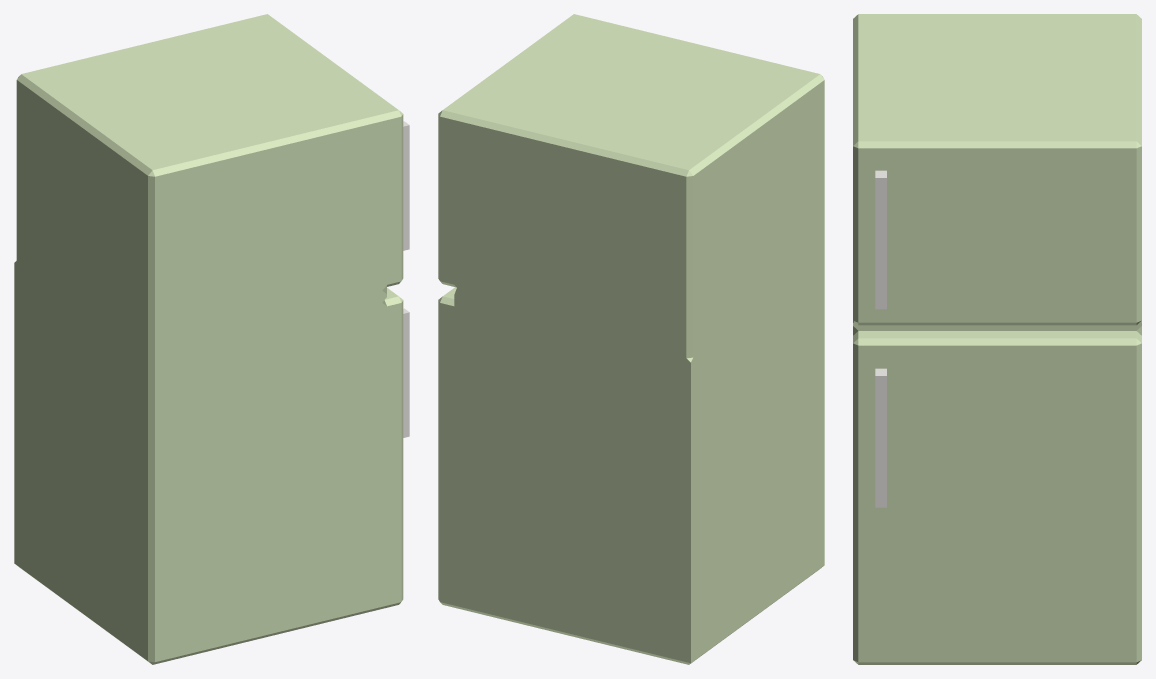
File: Fridge.fbx
3 renders of one model, left to right at view 1: azimuth 30°, elevation 25°; view 2: azimuth 150°, elevation 25°; view 3: azimuth 270°, elevation 25°, orthographic. The views are drawn at different scales.
Visible parts, largest first — view 1: polySurface252; view 2: polySurface252; view 3: polySurface252.
Part boxes in pixels (x1,y1,x2,y2): polySurface252: [14, 14, 409, 664]; polySurface252: [438, 14, 824, 664]; polySurface252: [853, 14, 1141, 664].
Size of the model in its own units: 114 by 200 by 100.
